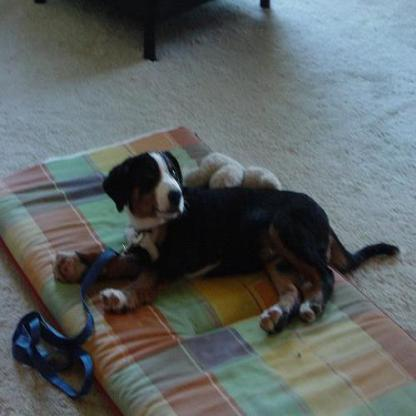Appenzeller: (47, 148, 398, 336)
